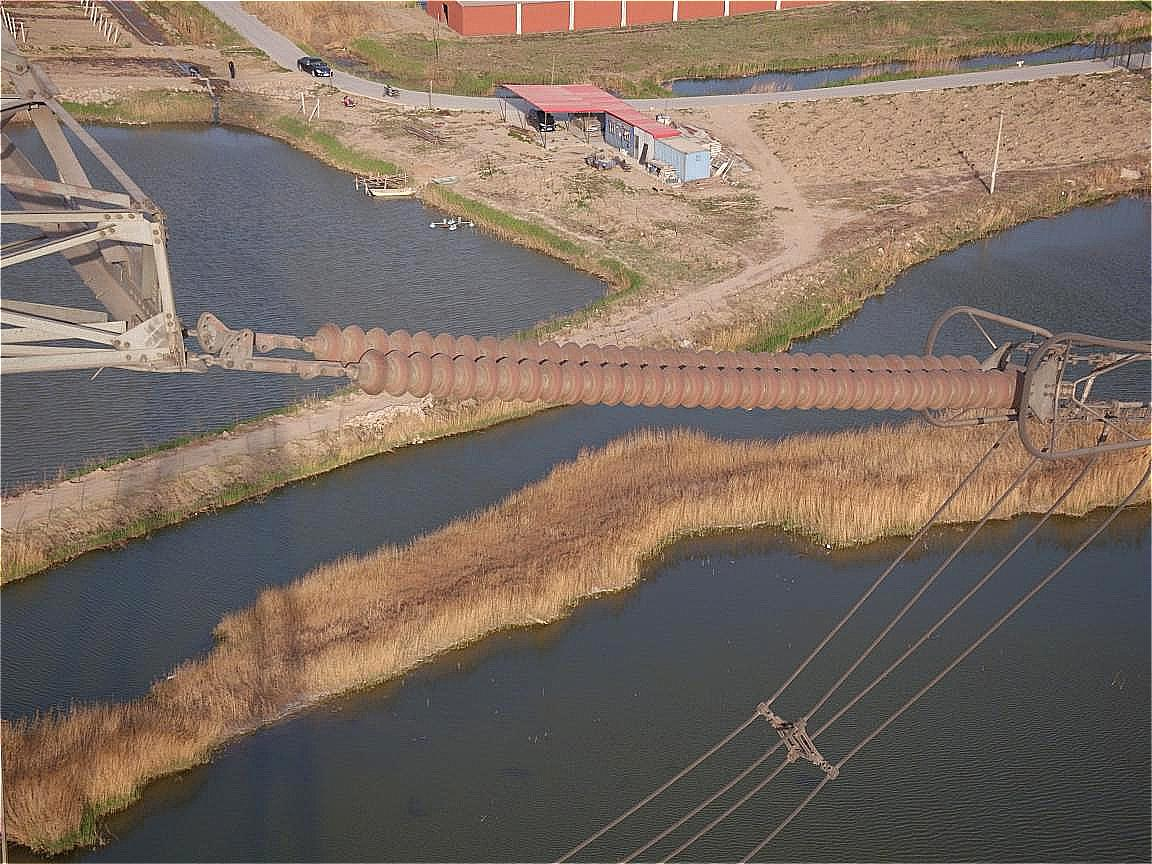insultor1: (307, 303, 1035, 441)
